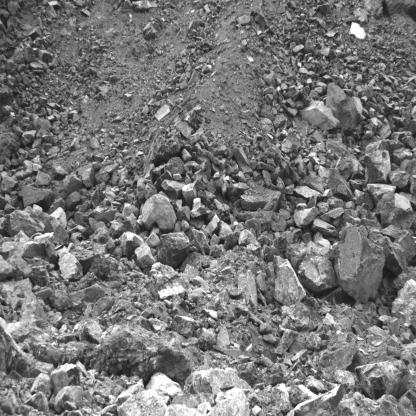stone: (334, 224, 385, 302), (0, 204, 70, 243), (356, 359, 411, 403), (298, 241, 338, 293), (0, 315, 29, 375), (273, 255, 306, 307), (376, 193, 416, 234), (325, 83, 359, 130), (114, 389, 168, 416), (363, 140, 395, 184), (141, 194, 178, 231), (298, 98, 340, 129), (205, 388, 251, 416), (156, 232, 190, 268), (240, 183, 281, 211), (50, 363, 81, 394), (257, 235, 291, 263), (237, 266, 258, 311), (57, 248, 82, 281), (54, 386, 83, 414), (327, 168, 353, 199), (19, 185, 55, 207), (221, 176, 250, 203), (232, 142, 254, 177), (366, 183, 397, 207), (169, 314, 197, 338), (120, 232, 144, 258), (293, 207, 319, 228), (82, 319, 103, 345), (161, 179, 185, 201), (95, 163, 119, 185), (91, 205, 120, 223), (311, 219, 338, 237), (20, 241, 46, 259), (134, 245, 155, 267), (303, 171, 324, 193), (192, 229, 210, 254), (30, 265, 50, 286), (389, 169, 411, 188), (45, 238, 58, 270), (281, 135, 301, 155), (197, 328, 216, 349), (121, 214, 140, 234), (238, 230, 261, 246), (65, 191, 82, 212), (294, 184, 321, 197), (218, 219, 233, 242), (190, 197, 206, 218), (183, 184, 197, 207), (1, 176, 19, 193), (270, 214, 287, 232), (224, 230, 240, 248), (34, 171, 53, 186), (81, 168, 95, 188), (176, 206, 191, 222), (144, 183, 157, 200), (193, 179, 208, 191), (327, 207, 343, 218)
